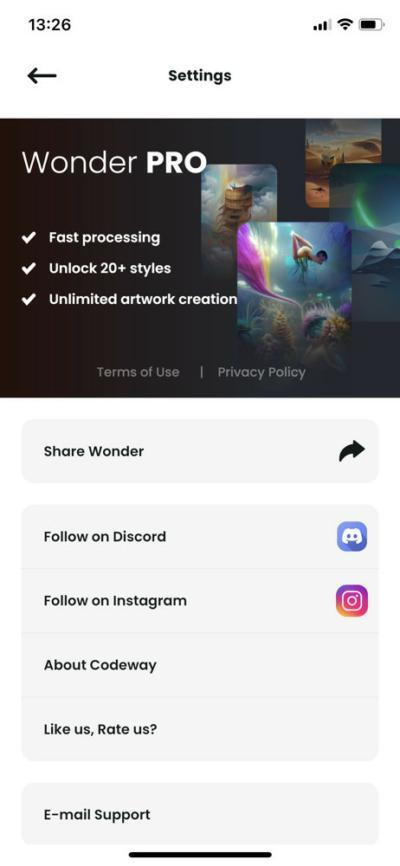button: (22, 505, 379, 570), (24, 569, 378, 634), (22, 420, 380, 483), (25, 634, 378, 697), (22, 785, 379, 846), (24, 698, 379, 759)
icon: (25, 62, 68, 91)
